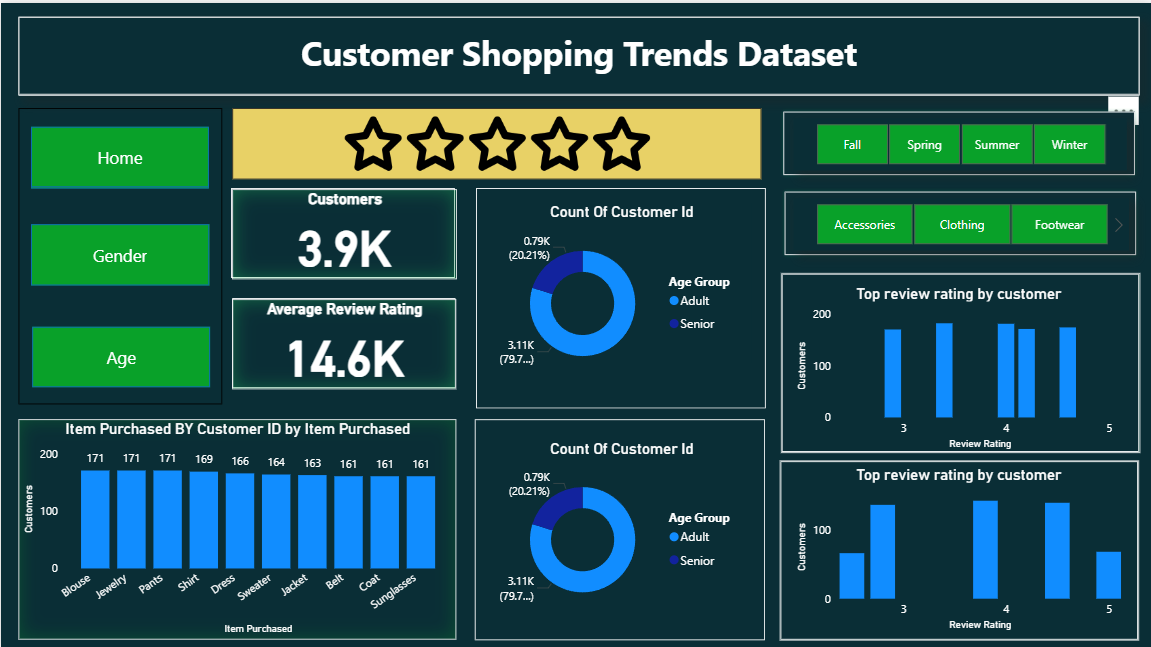

Layout of this report page (visuals, bound fields, positions):
{"tool":"powerbi","page":{"name":"Home","canvas":[1280,720],"ordinal":0},"visuals":[{"type":"textbox","box":[19.2,15.1,1246,87.8],"z":0},{"type":"shape","box":[19,117,226.4,329.3],"z":1000},{"type":"shape","box":[34,246,198,68],"z":2000},{"type":"shape","box":[32.9,138.6,197.6,67.2],"z":3000},{"type":"shape","box":[34,138,197.6,67.2],"z":4000},{"type":"shape","box":[34.3,360,197.6,67.2],"z":5000},{"type":"columnChart","title":"Item Purchased BY Customer ID by Item Purchased","fields":{"Y":["CountNonNull(shopping_trends_updated.Customer ID)"],"Category":["shopping_trends_updated.Item Purchased"]},"box":[19,463,486,245],"z":6000},{"type":"shape","box":[866,300,399,200],"z":7000},{"type":"columnChart","title":"Top review rating by customer","fields":{"Y":["CountNonNull(shopping_trends_updated.Customer ID)"],"Category":["shopping_trends_updated.Review Rating"]},"box":[879.6,312.9,370.5,188],"z":8000},{"type":"shape","box":[865.9,507.7,399.3,200.3],"z":9000},{"type":"columnChart","title":"Top review rating by customer","fields":{"Y":["CountNonNull(shopping_trends_updated.Customer ID)"],"Category":["shopping_trends_updated.Review Rating"]},"box":[879.6,514.6,370.5,188],"z":10000},{"type":"shape","box":[528.3,205.8,322,245],"z":11000},{"type":"donutChart","title":"Count Of Customer Id","fields":{"Y":["CountNonNull(shopping_trends_updated.Customer ID)"],"Category":["shopping_trends_updated.Age Group"]},"box":[546.1,222.3,288.2,204.5],"z":12000},{"type":"shape","box":[526.9,462.4,322.5,245.6],"z":13000},{"type":"donutChart","title":"Count Of Customer Id","fields":{"Category":["shopping_trends_updated.Age Group"],"Y":["CountNonNull(shopping_trends_updated.Frequency of Purchases)"]},"box":[546.1,484.4,288.2,204.5],"z":14000},{"type":"shape","box":[256,206,249,100],"z":15000},{"type":"shape","box":[256.6,328,248.4,100.2],"z":16000},{"type":"shape","box":[865.7,117.1,398.6,78.6],"z":17000},{"type":"shape","box":[867.1,206,398.6,78.6],"z":18000},{"type":"slicer","fields":{"Values":["shopping_trends_updated.Season"]},"box":[880,127.1,370,58.6],"z":19000},{"type":"slicer","fields":{"Values":["shopping_trends_updated.Category"]},"box":[880,217.1,372.9,58.6],"z":20000},{"type":"card","title":"Customers","fields":{"Values":["CountNonNull(shopping_trends_updated.Customer ID)"]},"box":[256.7,206.6,249.4,100.2],"z":21000},{"type":"card","title":"Average Review Rating","fields":{"Values":["Sum(shopping_trends_updated.Review Rating)"]},"box":[257.1,328.6,248.6,100],"z":22000},{"type":"shape","box":[256.7,117.4,588,79.5],"z":23000},{"type":"image","box":[358.2,117.4,386.3,79.5],"z":24000}]}

Visuals, with their boxes in screenshot pixels (x1, y1, x2, y2), scaled from the page's 1280x720 canvas onto the 1151x647 screenshot:
textbox: x1=17 y1=14 x2=1138 y2=92
shape: x1=17 y1=105 x2=221 y2=401
shape: x1=31 y1=221 x2=209 y2=282
shape: x1=30 y1=125 x2=207 y2=185
shape: x1=31 y1=124 x2=208 y2=184
shape: x1=31 y1=324 x2=209 y2=384
"Item Purchased BY Customer ID by Item Purchased" columnChart: x1=17 y1=416 x2=454 y2=636
shape: x1=779 y1=270 x2=1138 y2=449
"Top review rating by customer" columnChart: x1=791 y1=281 x2=1124 y2=450
shape: x1=779 y1=456 x2=1138 y2=636
"Top review rating by customer" columnChart: x1=791 y1=462 x2=1124 y2=631
shape: x1=475 y1=185 x2=765 y2=405
"Count Of Customer Id" donutChart: x1=491 y1=200 x2=750 y2=384
shape: x1=474 y1=416 x2=764 y2=636
"Count Of Customer Id" donutChart: x1=491 y1=435 x2=750 y2=619
shape: x1=230 y1=185 x2=454 y2=275
shape: x1=231 y1=295 x2=454 y2=385
shape: x1=778 y1=105 x2=1137 y2=176
shape: x1=780 y1=185 x2=1138 y2=256
slicer - shopping_trends_updated.Season: x1=791 y1=114 x2=1124 y2=167
slicer - shopping_trends_updated.Category: x1=791 y1=195 x2=1127 y2=248
"Customers" card: x1=231 y1=186 x2=455 y2=276
"Average Review Rating" card: x1=231 y1=295 x2=455 y2=385
shape: x1=231 y1=105 x2=760 y2=177
image: x1=322 y1=105 x2=669 y2=177
